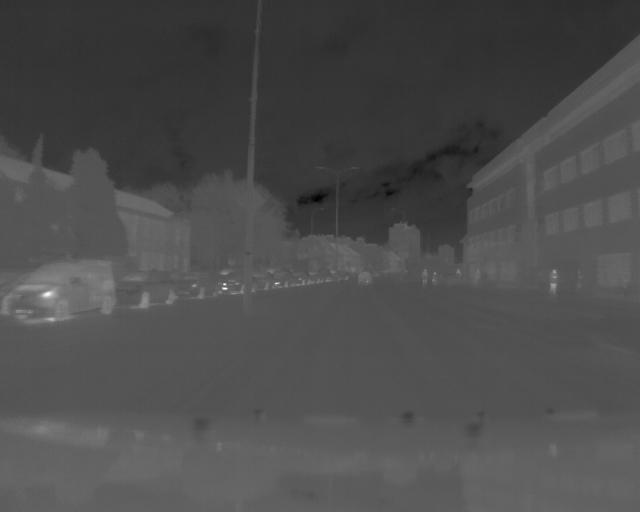car: (5, 262, 117, 319), (120, 267, 176, 310), (181, 271, 218, 298)
person: (548, 264, 560, 292), (419, 265, 429, 289)
